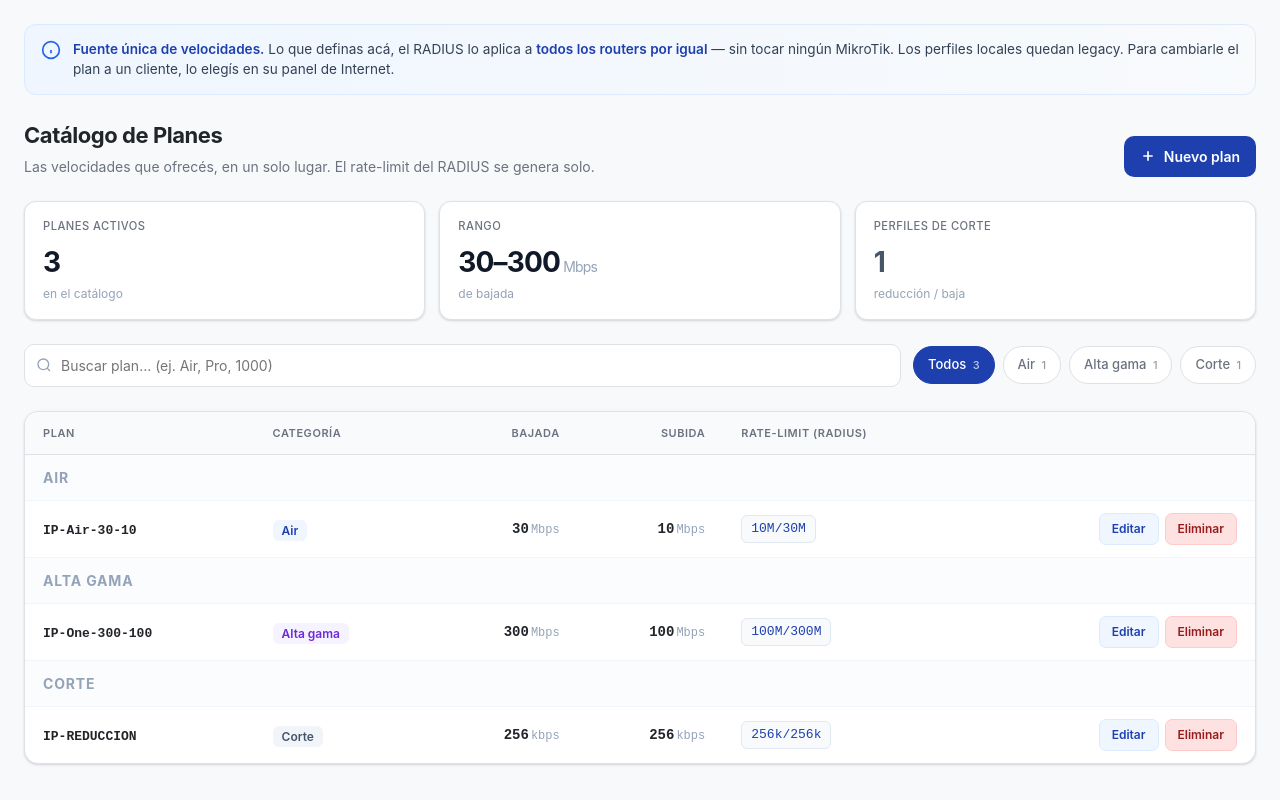
Test: PlansPage — search and filter › filters by category chip
What coordinates should you click on to do the following:
click the button "Alta gama 1"
I would click on:
 (1121, 365)
Its box is 1069,346 -> 1172,384.
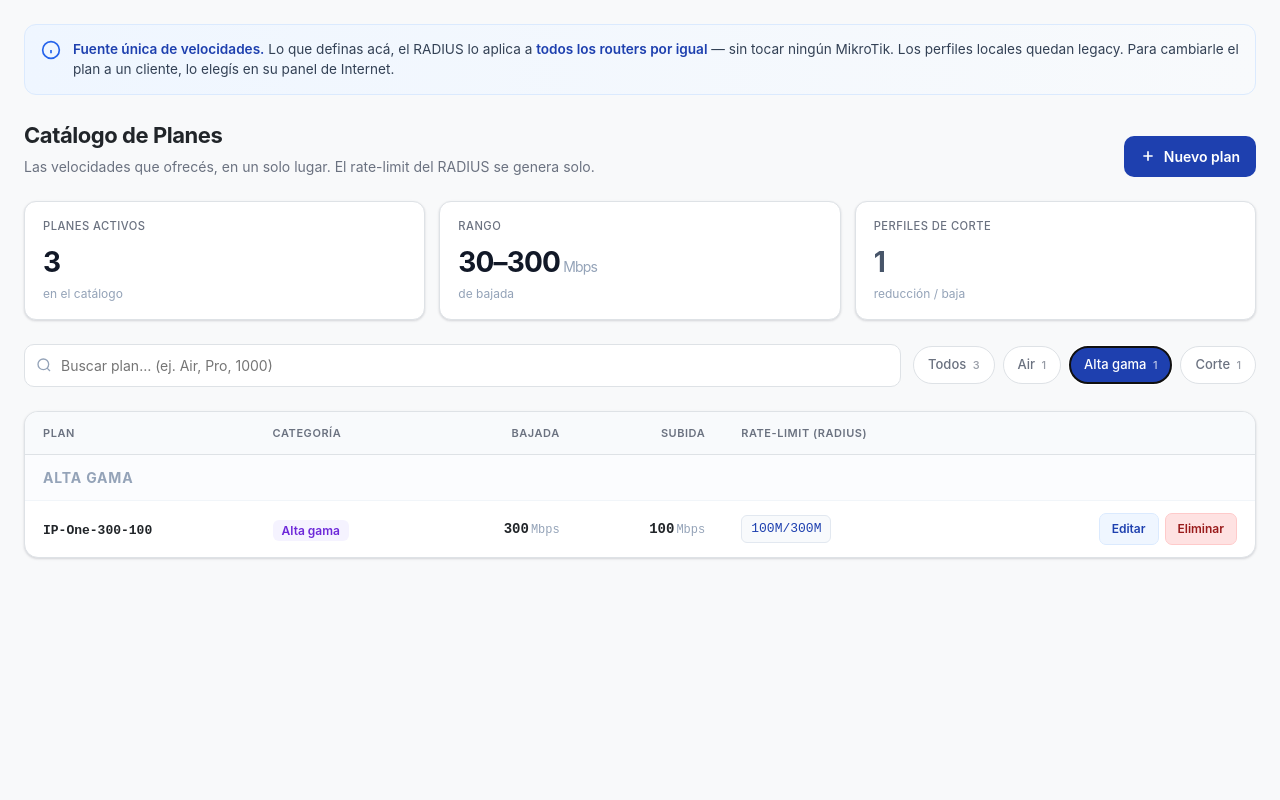
Expected: the text "IP-One-300-100" is shown, 43,523 -> 152,538
Result: the text "IP-Air-30-10" is gone
